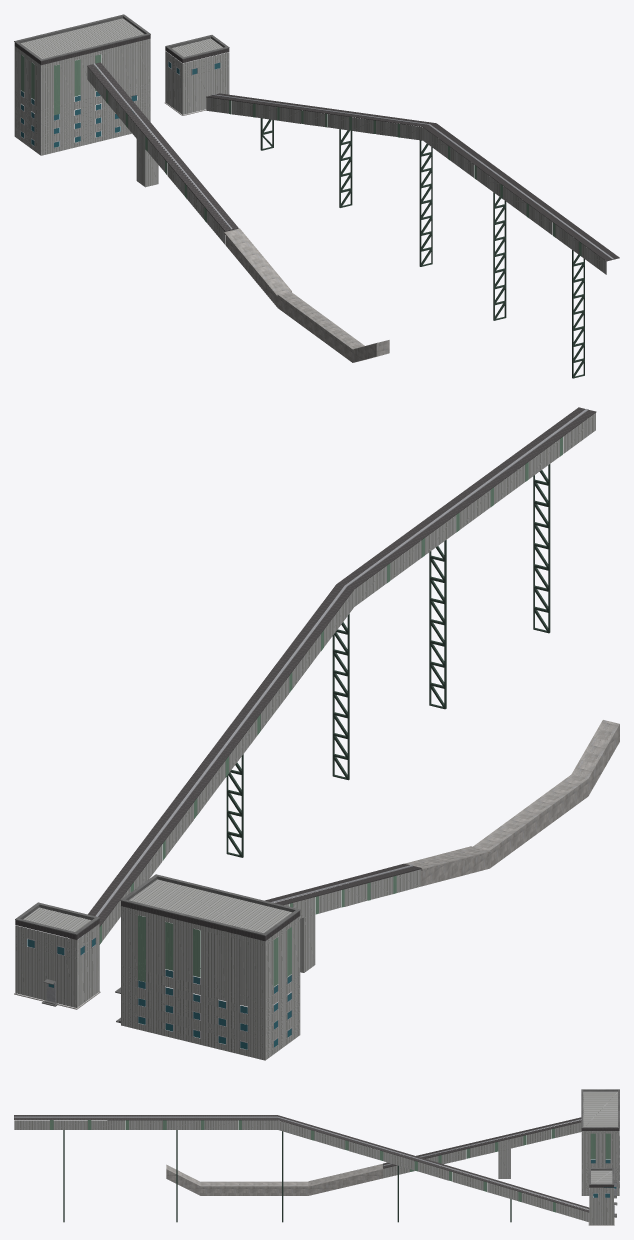
Rendered from 成品分级.glb.
3 renders of one model, top to bottom at view 1: azimuth 30°, elevation 25°; view 2: azimuth 150°, elevation 25°; view 3: azimuth 270°, elevation 25°, orthographic. The views are drawn at different scales.
Visible parts, largest first — view 1: 成品分级001, 成品分级004, 成品分级007, 成品分级008, 成品分级005, 成品分级002, 成品分级003, 成品分级006; view 2: 成品分级001, 成品分级004, 成品分级007, 成品分级008, 成品分级005, 成品分级002, 成品分级003, 成品分级006; view 3: 成品分级001, 成品分级004, 成品分级007, 成品分级005, 成品分级002, 成品分级008, 成品分级003.
Boxes of the visible parts, x1,y1,x2,y2 form: 成品分级001: [14, 18, 606, 274]; 成品分级004: [14, 35, 619, 261]; 成品分级007: [164, 102, 389, 362]; 成品分级008: [260, 118, 584, 378]; 成品分级005: [20, 57, 613, 259]; 成品分级002: [21, 54, 581, 256]; 成品分级003: [14, 14, 229, 95]; 成品分级006: [21, 61, 220, 147]; 成品分级001: [15, 413, 595, 1060]; 成品分级004: [15, 407, 596, 941]; 成品分级007: [14, 720, 619, 1009]; 成品分级008: [226, 464, 550, 857]; 成品分级005: [27, 409, 588, 1049]; 成品分级002: [99, 437, 562, 986]; 成品分级003: [15, 874, 300, 1023]; 成品分级006: [27, 938, 291, 1049]; 成品分级001: [14, 1091, 619, 1224]; 成品分级004: [14, 1115, 619, 1212]; 成品分级007: [166, 1164, 614, 1225]; 成品分级005: [14, 1116, 619, 1215]; 成品分级002: [50, 1120, 610, 1212]; 成品分级008: [63, 1130, 511, 1222]; 成品分级003: [581, 1089, 619, 1217].
Size of the model in its own units: 44.77 by 36.78 by 168.
8 materials, 8 textured.
